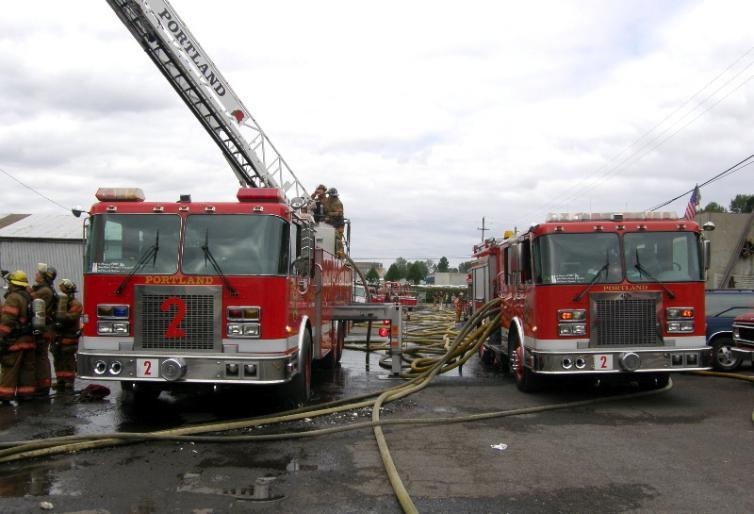firetruck_off: (74, 178, 405, 406), (458, 207, 717, 395)
